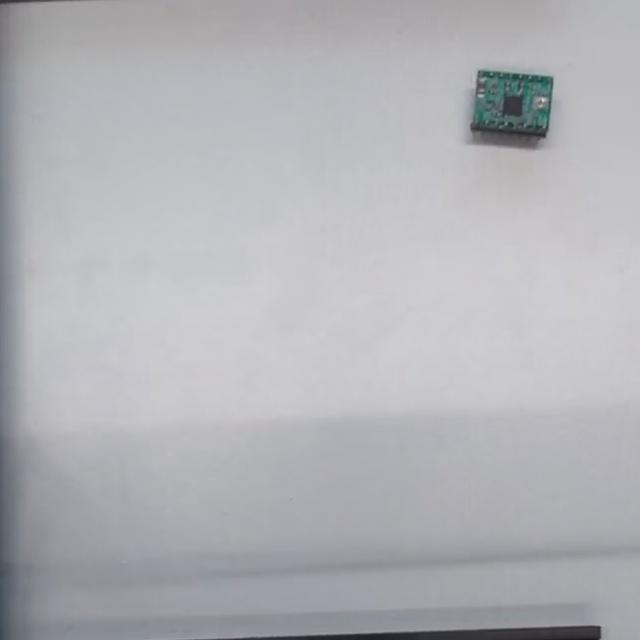Chip: (474, 67, 553, 145)
